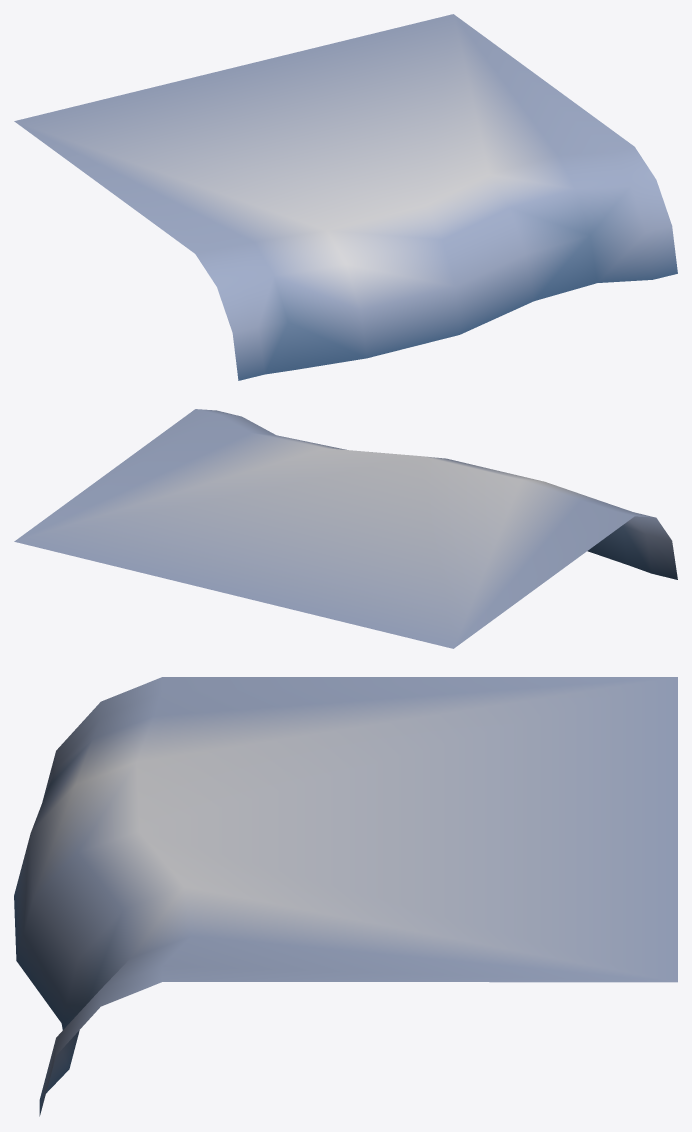
The model's file is Surface_PlatformShirt01.fbx.
3 renders of one model, top to bottom at view 1: azimuth 30°, elevation 25°; view 2: azimuth 150°, elevation 25°; view 3: azimuth 270°, elevation 25°, orthographic. The views are drawn at different scales.
Visible parts, largest first — view 1: Surface_PlatformShirt01; view 2: Surface_PlatformShirt01; view 3: Surface_PlatformShirt01.
Part boxes in pixels (<box>): Surface_PlatformShirt01: <box>14,14,677,380</box>; Surface_PlatformShirt01: <box>14,409,677,648</box>; Surface_PlatformShirt01: <box>14,677,677,1116</box>.
Size of the model in its own units: 2000 by 415 by 1840.
